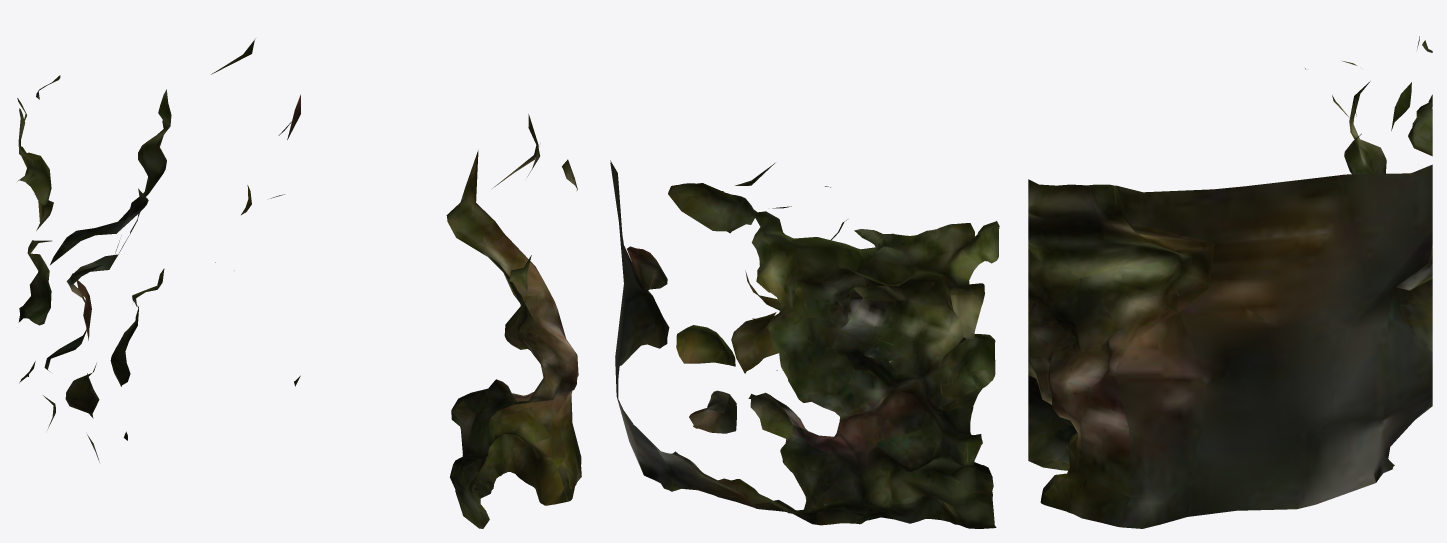
The picture shows the model from 3 angles, left to right: view 1: azimuth 30°, elevation 25°; view 2: azimuth 150°, elevation 25°; view 3: azimuth 270°, elevation 25°; orthographic projection. The views are drawn at different scales.
Bounding box in the file's own units: 0.7044 × 0.5261 × 0.6082.
Materials: 1 (1 with a texture image).
